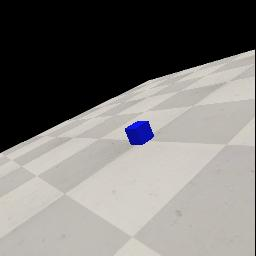box: (125, 121, 154, 145)
